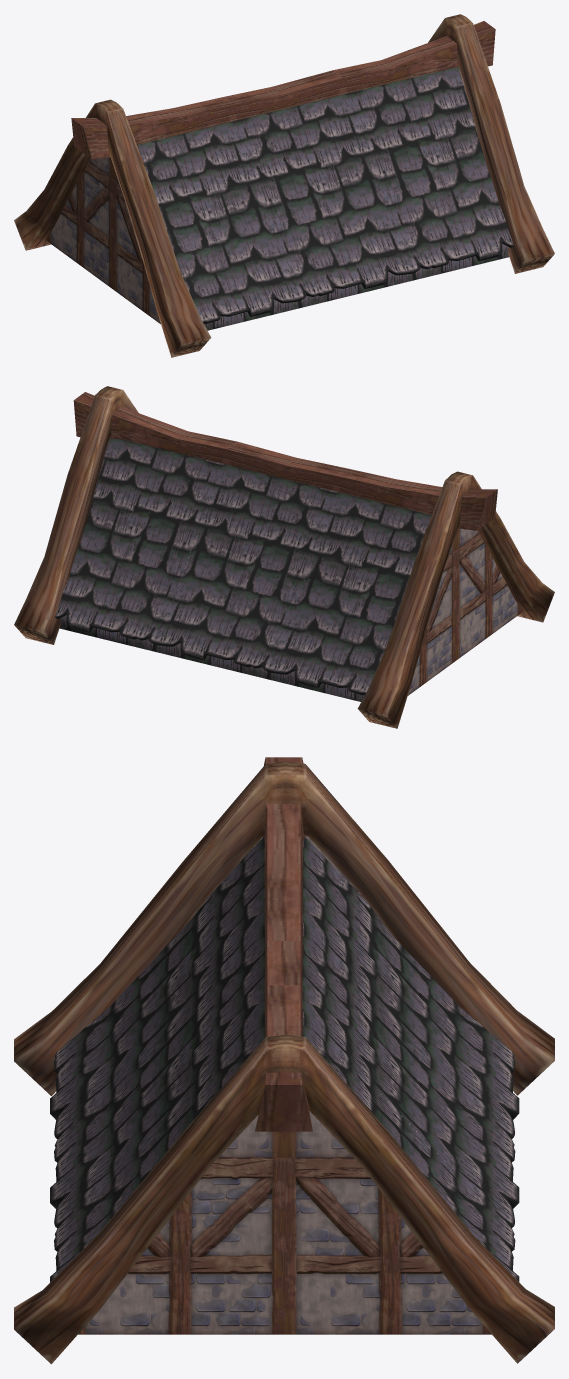
The model's file is roof2x3.fbx.
3 renders of one model, top to bottom at view 1: azimuth 30°, elevation 25°; view 2: azimuth 150°, elevation 25°; view 3: azimuth 270°, elevation 25°, orthographic. The views are drawn at different scales.
Visible parts, largest first — view 1: roof2x3; view 2: roof2x3; view 3: roof2x3.
Part boxes in pixels (box(x1,y1,x2,y2)): roof2x3: box(14, 14, 554, 357); roof2x3: box(14, 386, 554, 728); roof2x3: box(14, 757, 554, 1364).
Bounding box in the file's own units: 541 × 247 × 384.
